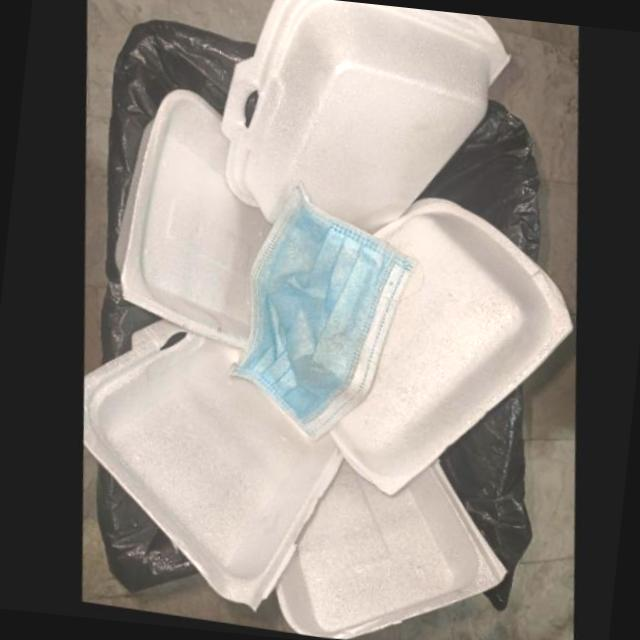khau_trang: (227, 187, 412, 441)
xop: (78, 321, 339, 613), (325, 197, 570, 496), (218, 0, 508, 235), (269, 460, 502, 640), (110, 91, 269, 352)
